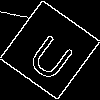U: (25, 25, 82, 84)
